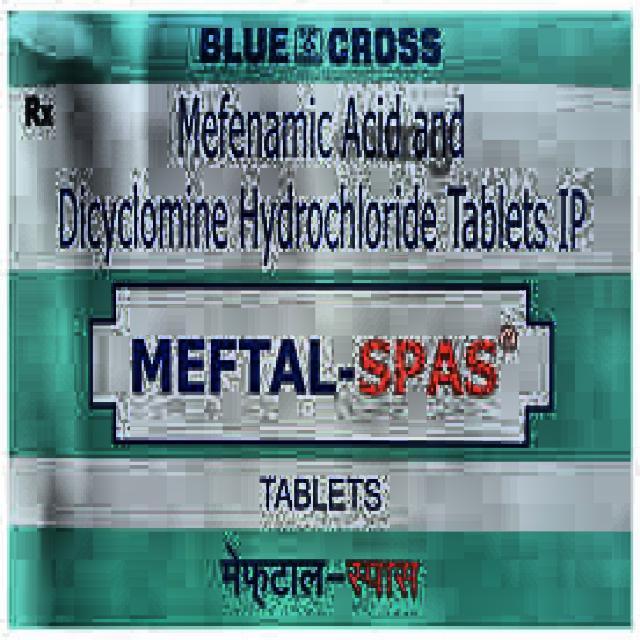Meftal: (102, 283, 540, 443)
